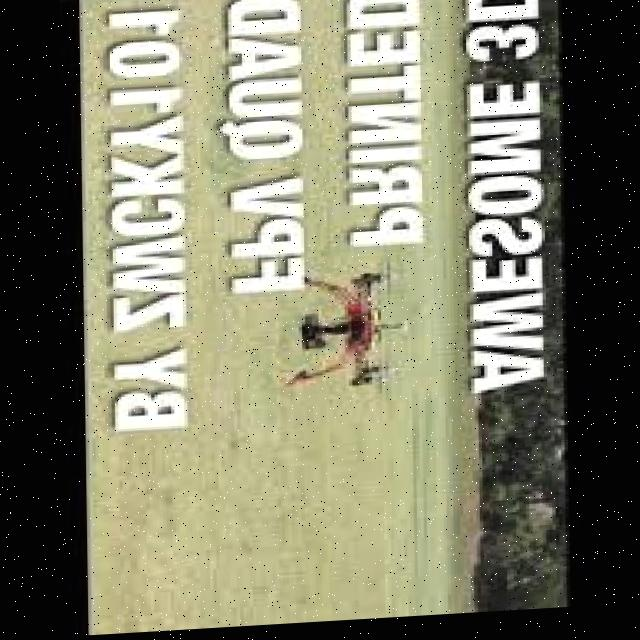drone: (261, 256, 407, 417)
